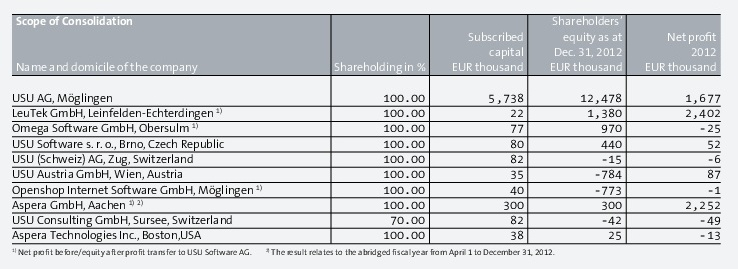table: (0, 0, 738, 269)
